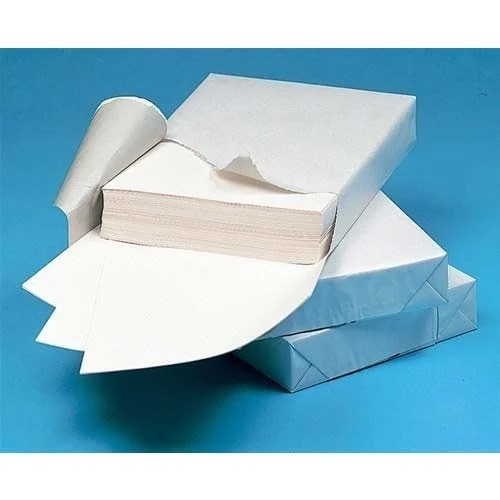paper: (19, 69, 482, 404)
